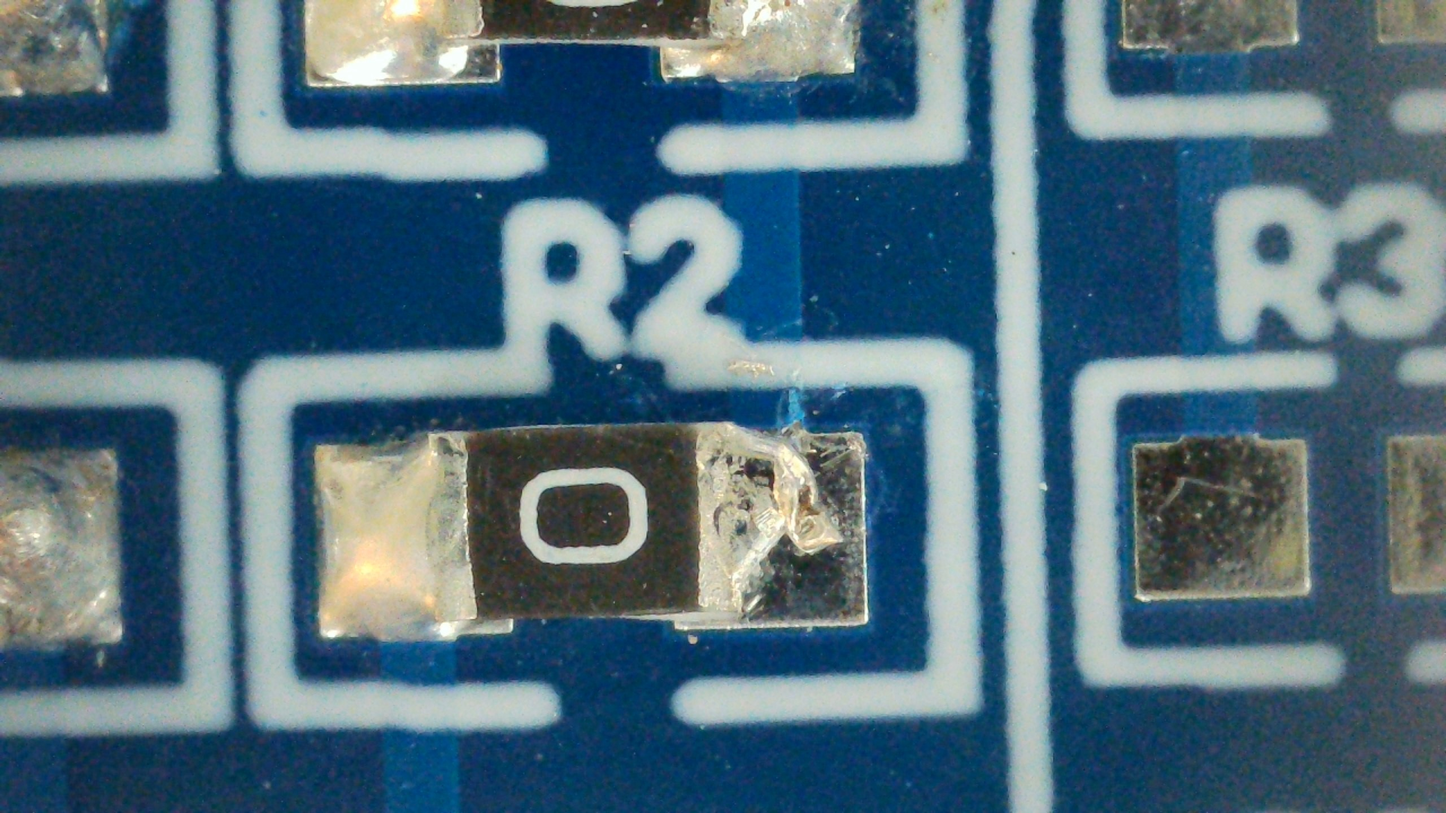OK: (317, 423, 868, 641)
